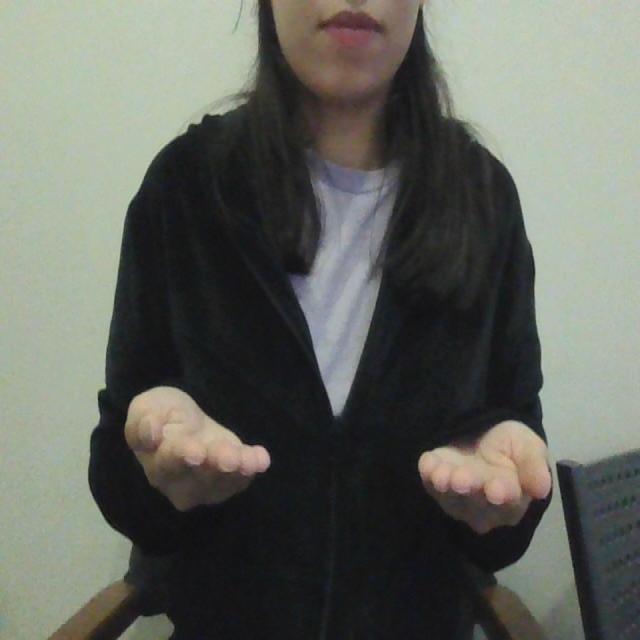Evet: (123, 380, 554, 539)
